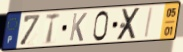0: (92, 9, 111, 42)
7: (20, 14, 42, 48)
I: (143, 7, 155, 40)
K: (68, 12, 89, 43)
T: (44, 12, 62, 46)
X: (116, 6, 143, 42)
